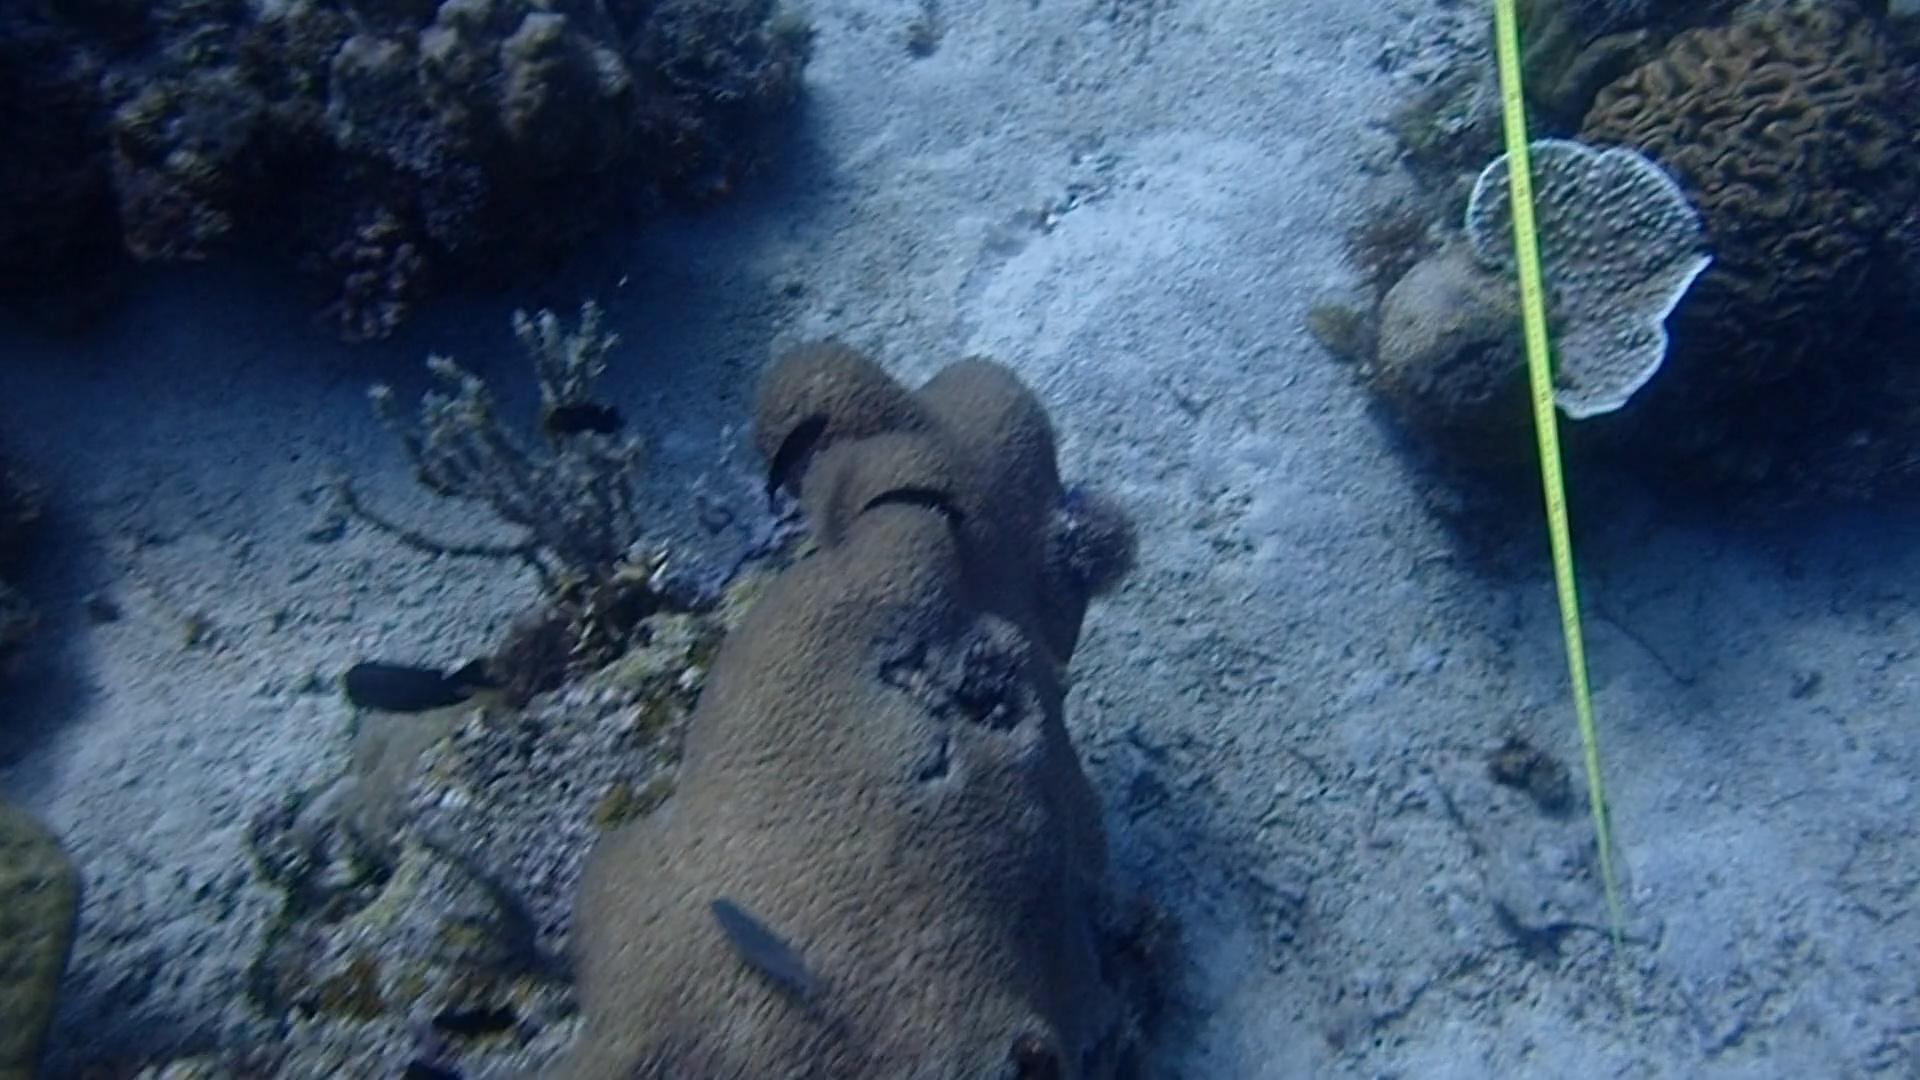Big Dark Blue Fish: (332, 649, 513, 721)
Dark Fish: (744, 392, 831, 498), (852, 463, 973, 535), (534, 377, 638, 452), (435, 986, 534, 1050)
Light Fish: (705, 884, 837, 1009)
